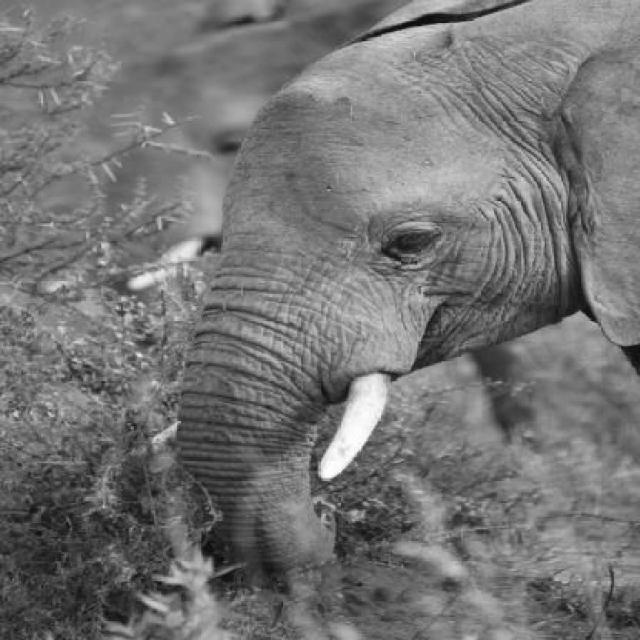Elephant: (142, 1, 607, 612)
